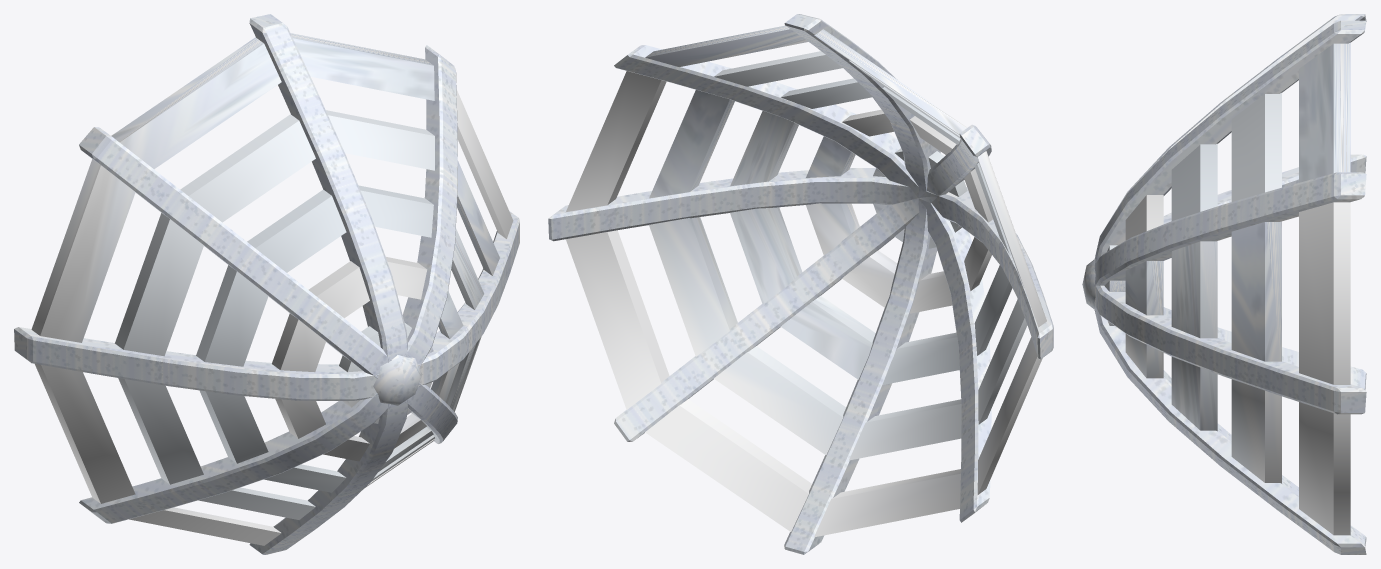
Rendered from Web plug.fbx.
The picture shows the model from 3 angles, left to right: view 1: azimuth 30°, elevation 25°; view 2: azimuth 150°, elevation 25°; view 3: azimuth 270°, elevation 25°; orthographic projection.
Visible parts, largest first — view 1: WebPlug_WebMiddleSection, WebPlug_Web02, WebPlug_Web01, WebPlug_Web03, WebPlug_Web04, WebPlug_LaunchPoint; view 2: WebPlug_WebMiddleSection, WebPlug_Web02, WebPlug_Web03, WebPlug_Web01, WebPlug_Web04; view 3: WebPlug_WebMiddleSection, WebPlug_Web03, WebPlug_Web02, WebPlug_Web04, WebPlug_Web01, WebPlug_LaunchPoint.
Part boxes in pixels (<box>): WebPlug_WebMiddleSection: <box>31,33,513,545</box>; WebPlug_Web02: <box>79,45,457,523</box>; WebPlug_Web01: <box>249,14,408,554</box>; WebPlug_Web03: <box>14,211,519,400</box>; WebPlug_Web04: <box>79,127,457,443</box>; WebPlug_LaunchPoint: <box>373,355,422,405</box>; WebPlug_WebMiddleSection: <box>566,25,1046,537</box>; WebPlug_Web02: <box>614,45,991,522</box>; WebPlug_Web03: <box>548,168,1053,359</box>; WebPlug_Web01: <box>784,14,940,554</box>; WebPlug_Web04: <box>614,124,991,441</box>; WebPlug_WebMiddleSection: <box>1104,42,1350,535</box>; WebPlug_Web03: <box>1094,154,1366,414</box>; WebPlug_Web02: <box>1094,172,1366,389</box>; WebPlug_Web04: <box>1094,14,1366,554</box>; WebPlug_Web01: <box>1094,20,1366,547</box>; WebPlug_LaunchPoint: <box>1082,259,1095,310</box>.
Size of the model in its own units: 0.395 by 0.4045 by 0.201.
1 material, 1 textured.
